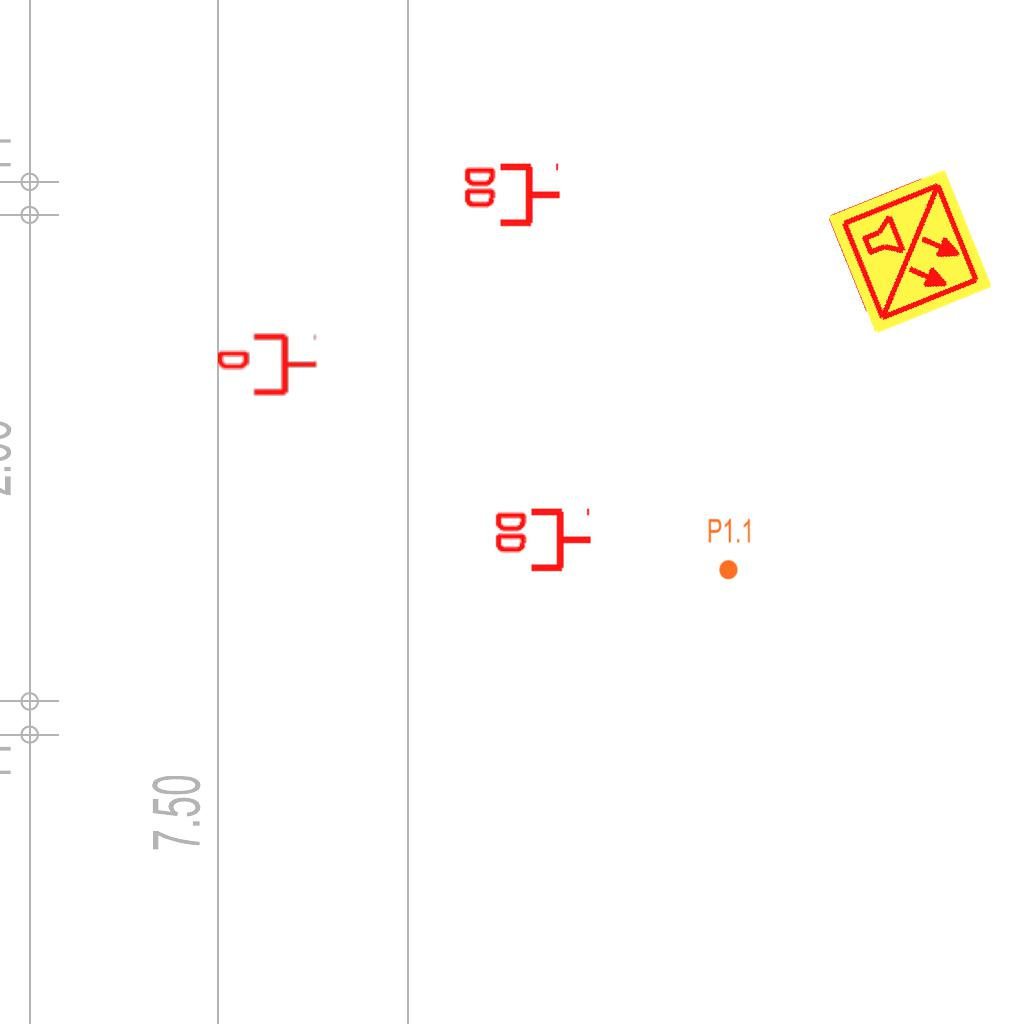Datenanschluss_einfach: (218, 330, 318, 399)
Datenanschluss_zweifach: (460, 162, 563, 231), (491, 507, 594, 576)
Downlight_LED_Einbauleuchten_Flur: (707, 517, 753, 581)
OKW_Multisensormelder_(Kombination_optischer_Rauch-Kahlenmonoxid_Waerme-Melder): (824, 166, 996, 338)
